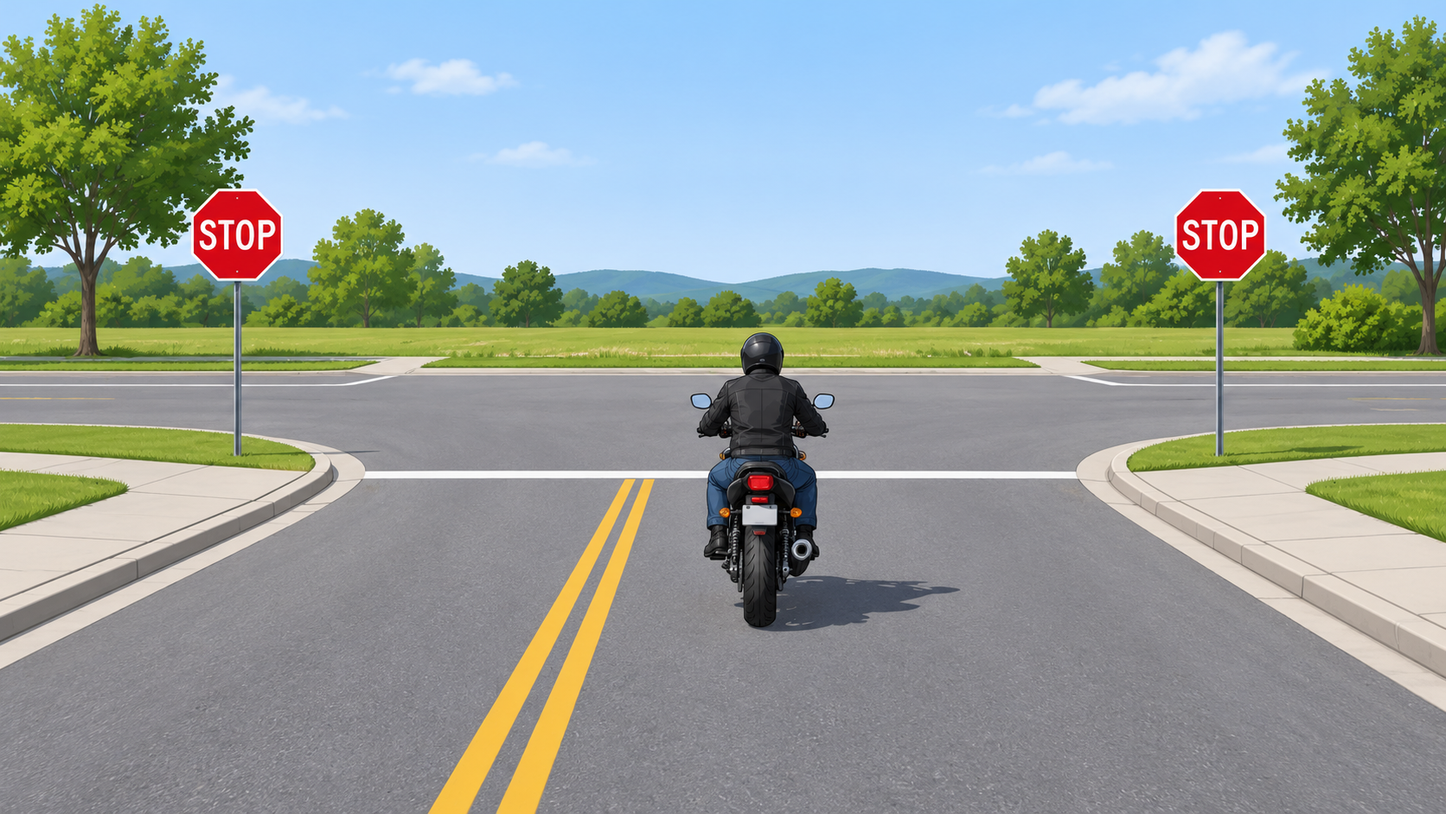motorcycle: (692, 335, 836, 628)
person: (694, 335, 832, 561)
stop_sign: (189, 189, 283, 280), (1174, 189, 1269, 279)
